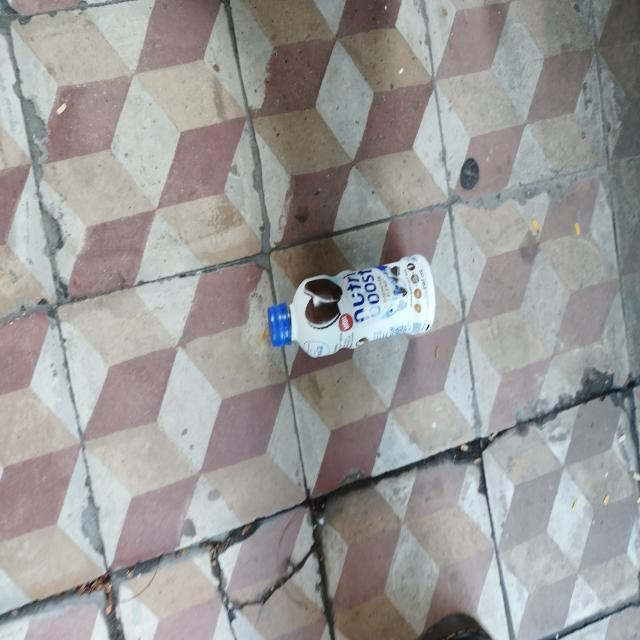bottle: (267, 253, 434, 357)
